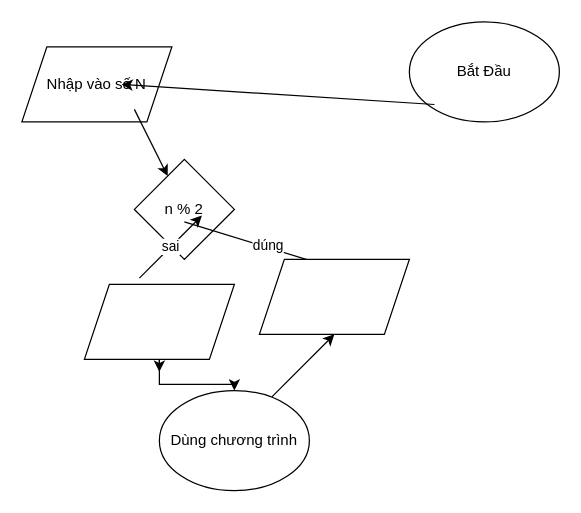
Image size: 581x513. Some labels were removed from this diagram. The box of each missing label's shape, as (x1, y1, x2, y2) in pixels:
số chăn: (258, 258, 409, 334)
số lẻ: (83, 283, 234, 359)
